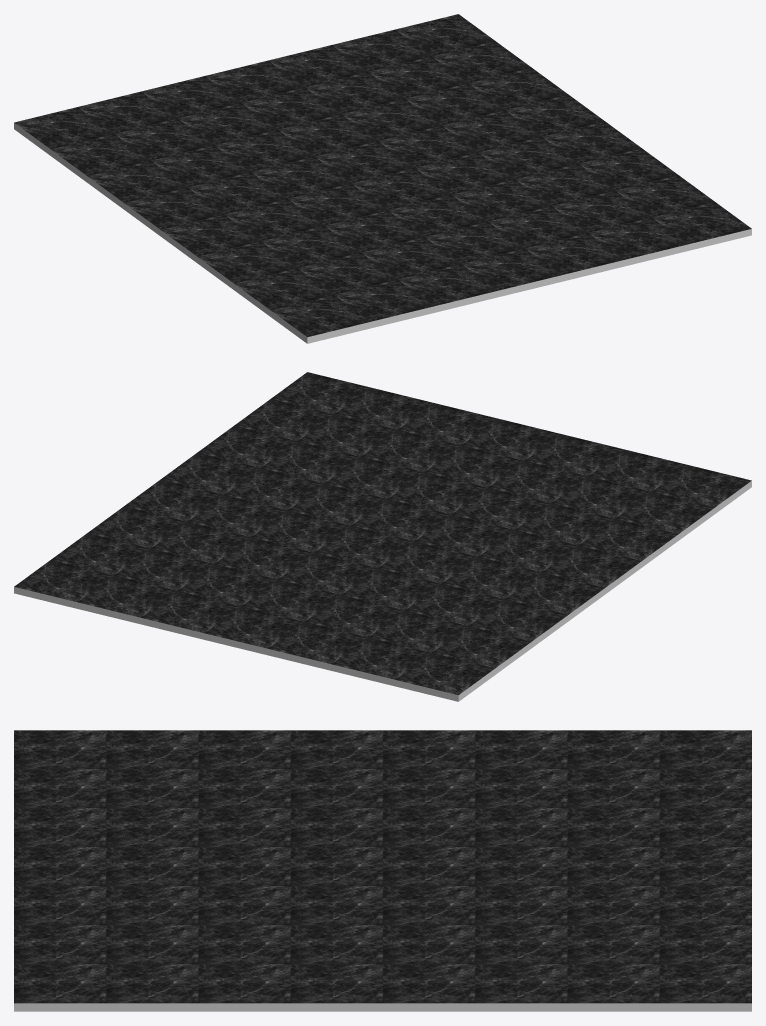
Rendered from ground.dae.
The picture shows the model from 3 angles, top to bottom: view 1: azimuth 30°, elevation 25°; view 2: azimuth 150°, elevation 25°; view 3: azimuth 270°, elevation 25°; orthographic projection. The views are drawn at different scales.
Visible parts, largest first — view 1: aaa38dd7-bcda-4c94-8a20-fe85b604fd06, ad63b348-fb33-4ef4-b4c1-ed5d821ad885, a23236d0-2627-42ce-bfc7-dbc5e8737322, accea5a9-8939-459e-af61-5026c33de08a, afb37bb8-952a-42c4-a92a-7af0b05c681c, aa45be11-30b7-4e26-a29a-a49c7d20359b, acf5774f-ef28-43bc-99ff-df47c335706d, a2a152b1-c4b3-4cbb-98b8-9b39a64a3ccb, a4b28741-3483-4044-a73d-54d4ab610e64, ac5569e7-eeb8-4a58-9743-171d72fed652, a3bfb7af-b864-437a-8ef9-b737d6c082e7, aa5fbf7b-bbb3-40b0-b93f-4c919638f27e (+44 smaller); view 2: ac29840e-e17f-4b1a-bac0-c027e06d8797, a4b28741-3483-4044-a73d-54d4ab610e64, c40be112-2c9b-4af3-a381-9d7a77ac5e38, a50f4124-2c74-4170-bdb9-09c0eb7e92c7, a5f3a1db-a0bf-484c-9f84-0af671cfba29, f68f4260-6976-4891-943c-b15eba793cc0, aa8c5415-82a8-4133-baaf-1fad00624775, ab513be4-420c-4360-9dc1-684bbdd6592d, a6311dad-102b-4e02-9f48-7a709b7bf0a7, a23236d0-2627-42ce-bfc7-dbc5e8737322, a681d640-90bd-4094-ba4f-69f1b114b143, accea5a9-8939-459e-af61-5026c33de08a (+44 smaller); view 3: d9c22d33-4b2b-4f09-b418-d2d129d1d983, a84b2cd4-2ad4-4c02-9f49-d1987d7f73fb, ac29840e-e17f-4b1a-bac0-c027e06d8797, a503286a-340d-47a4-bf44-52f139c538b3, a2a152b1-c4b3-4cbb-98b8-9b39a64a3ccb, a6311dad-102b-4e02-9f48-7a709b7bf0a7, a1af995e-dbd9-4299-be04-9f0fd9235e92, a645c2ef-7c14-414a-bd1c-b77a185e6379, a3f7df49-1dcf-41b5-8cf0-909d254cec26, d7ee1f42-3365-43a1-840e-b1eb8b3b82b9, afb37bb8-952a-42c4-a92a-7af0b05c681c, a3923853-6466-4281-94be-3284d43abc82 (+52 smaller).
Part boxes in pixels (box(x1,y1,x2,y2)): aaa38dd7-bcda-4c94-8a20-fe85b604fd06: box(395, 14, 494, 56); ad63b348-fb33-4ef4-b4c1-ed5d821ad885: box(141, 76, 240, 118); a23236d0-2627-42ce-bfc7-dbc5e8737322: box(288, 183, 387, 225); accea5a9-8939-459e-af61-5026c33de08a: box(197, 241, 296, 283); afb37bb8-952a-42c4-a92a-7af0b05c681c: box(552, 190, 651, 232); aa45be11-30b7-4e26-a29a-a49c7d20359b: box(442, 110, 541, 152); acf5774f-ef28-43bc-99ff-df47c335706d: box(268, 45, 367, 87); a2a152b1-c4b3-4cbb-98b8-9b39a64a3ccb: box(178, 103, 277, 144); a4b28741-3483-4044-a73d-54d4ab610e64: box(251, 156, 350, 198); ac5569e7-eeb8-4a58-9743-171d72fed652: box(542, 121, 641, 163); a3bfb7af-b864-437a-8ef9-b737d6c082e7: box(452, 179, 550, 221); aa5fbf7b-bbb3-40b0-b93f-4c919638f27e: box(161, 214, 260, 256); ac29840e-e17f-4b1a-bac0-c027e06d8797: box(114, 548, 213, 590); a4b28741-3483-4044-a73d-54d4ab610e64: box(378, 541, 477, 583); c40be112-2c9b-4af3-a381-9d7a77ac5e38: box(469, 599, 568, 641); a50f4124-2c74-4170-bdb9-09c0eb7e92c7: box(271, 372, 370, 414); a5f3a1db-a0bf-484c-9f84-0af671cfba29: box(525, 434, 624, 476); f68f4260-6976-4891-943c-b15eba793cc0: box(124, 479, 223, 521); aa8c5415-82a8-4133-baaf-1fad00624775: box(215, 537, 313, 579); ab513be4-420c-4360-9dc1-684bbdd6592d: box(205, 606, 303, 648); a6311dad-102b-4e02-9f48-7a709b7bf0a7: box(368, 610, 467, 652); a23236d0-2627-42ce-bfc7-dbc5e8737322: box(415, 514, 514, 556); a681d640-90bd-4094-ba4f-69f1b114b143: box(224, 468, 323, 510); accea5a9-8939-459e-af61-5026c33de08a: box(579, 518, 678, 560); d9c22d33-4b2b-4f09-b418-d2d129d1d983: box(567, 847, 659, 886); a84b2cd4-2ad4-4c02-9f49-d1987d7f73fb: box(567, 886, 659, 925); ac29840e-e17f-4b1a-bac0-c027e06d8797: box(567, 925, 659, 964); a503286a-340d-47a4-bf44-52f139c538b3: box(567, 964, 659, 1003); a2a152b1-c4b3-4cbb-98b8-9b39a64a3ccb: box(567, 808, 659, 847); a6311dad-102b-4e02-9f48-7a709b7bf0a7: box(567, 769, 659, 808); a1af995e-dbd9-4299-be04-9f0fd9235e92: box(567, 730, 659, 769); a645c2ef-7c14-414a-bd1c-b77a185e6379: box(106, 730, 198, 769); a3f7df49-1dcf-41b5-8cf0-909d254cec26: box(106, 847, 198, 886); d7ee1f42-3365-43a1-840e-b1eb8b3b82b9: box(106, 886, 198, 925); afb37bb8-952a-42c4-a92a-7af0b05c681c: box(106, 925, 198, 964); a3923853-6466-4281-94be-3284d43abc82: box(106, 964, 198, 1003).
Bounding box in the file's own units: 3.5 × 4 × 0.05.
2 materials, 1 textured.
